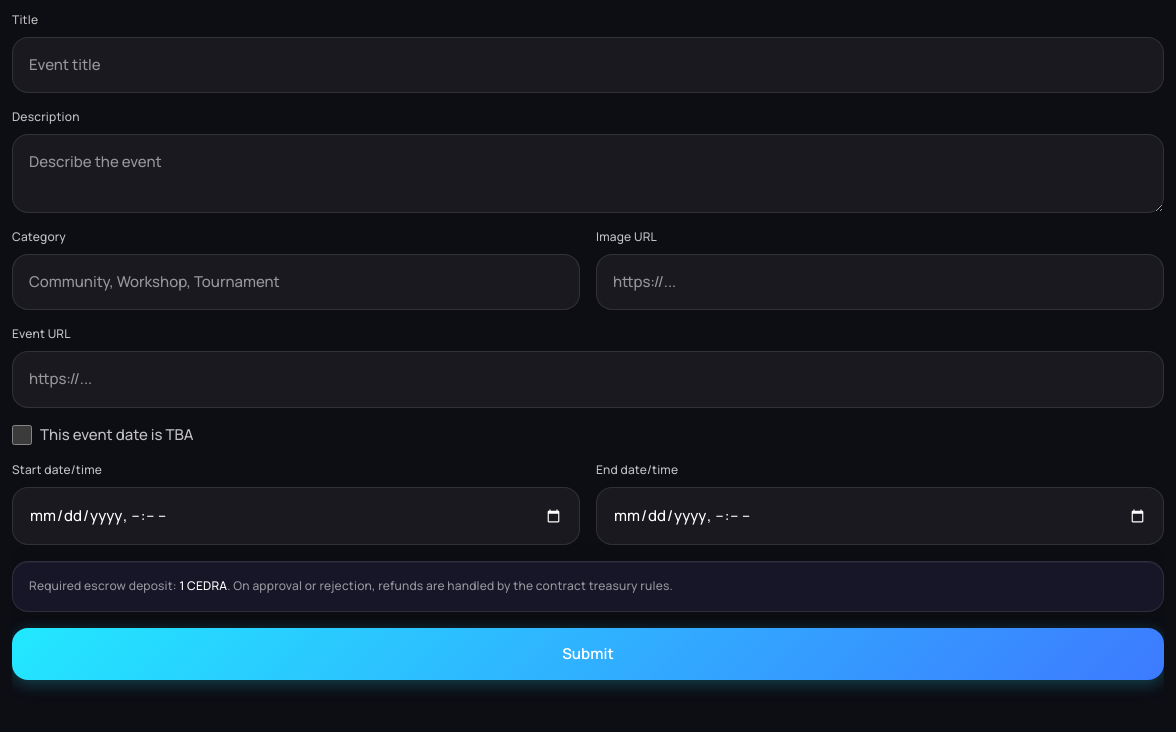
Test: EventForm › validates end date after start date
The width and height of the screenshot is (1176, 732).
Type "Test Event" into the field labelled "Title" at (588, 65), box [12,37,1164,93]
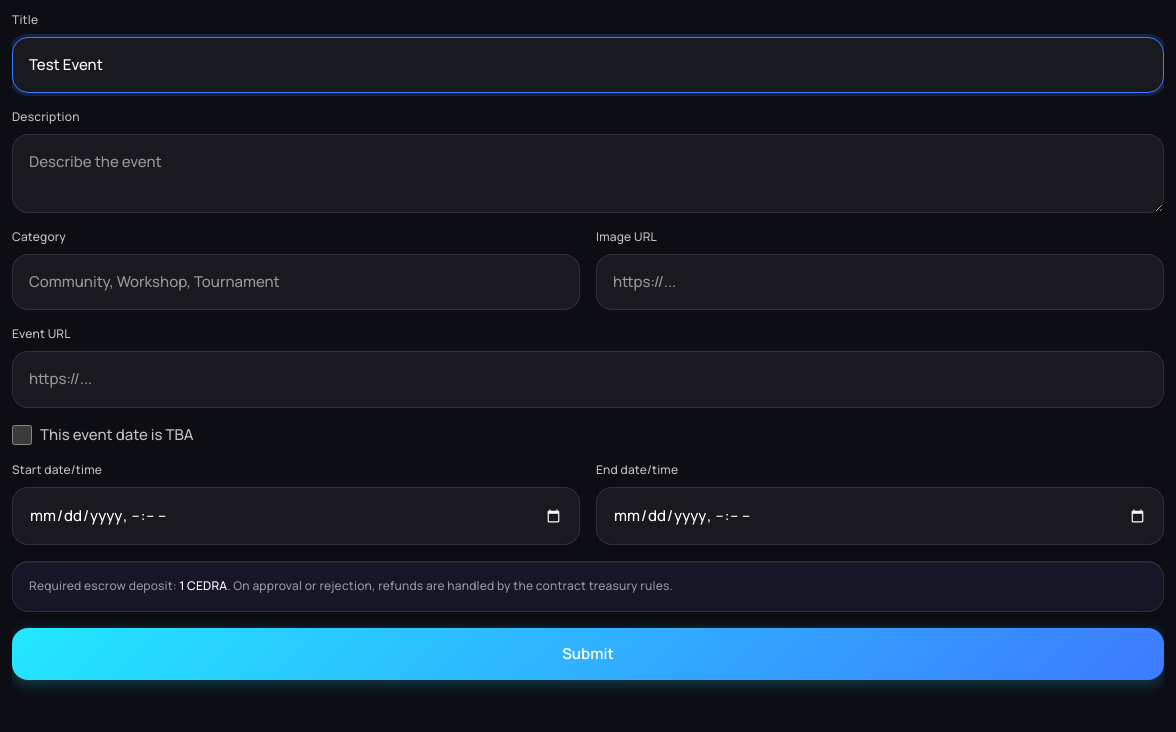
Type "This is a long enough description" into the text box labelled "Description" at (588, 174), box [12,134,1164,213]
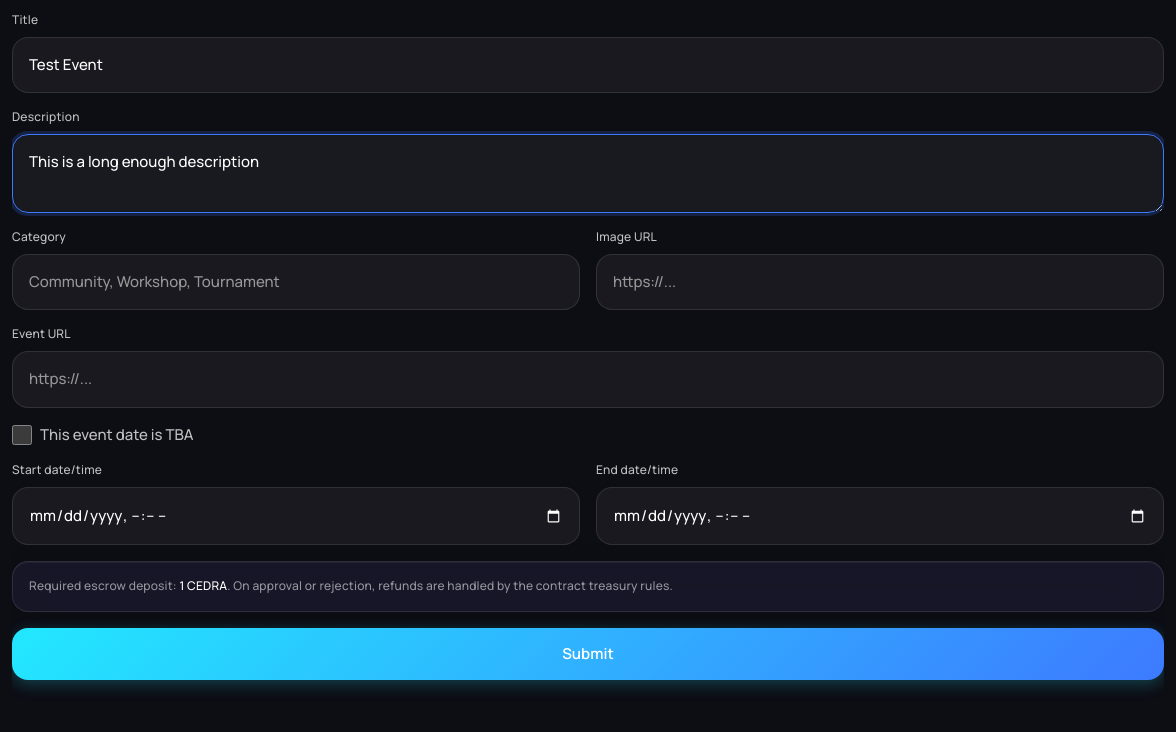
Type "Community" into the field labelled "Category" at (296, 282), box [12,254,580,310]
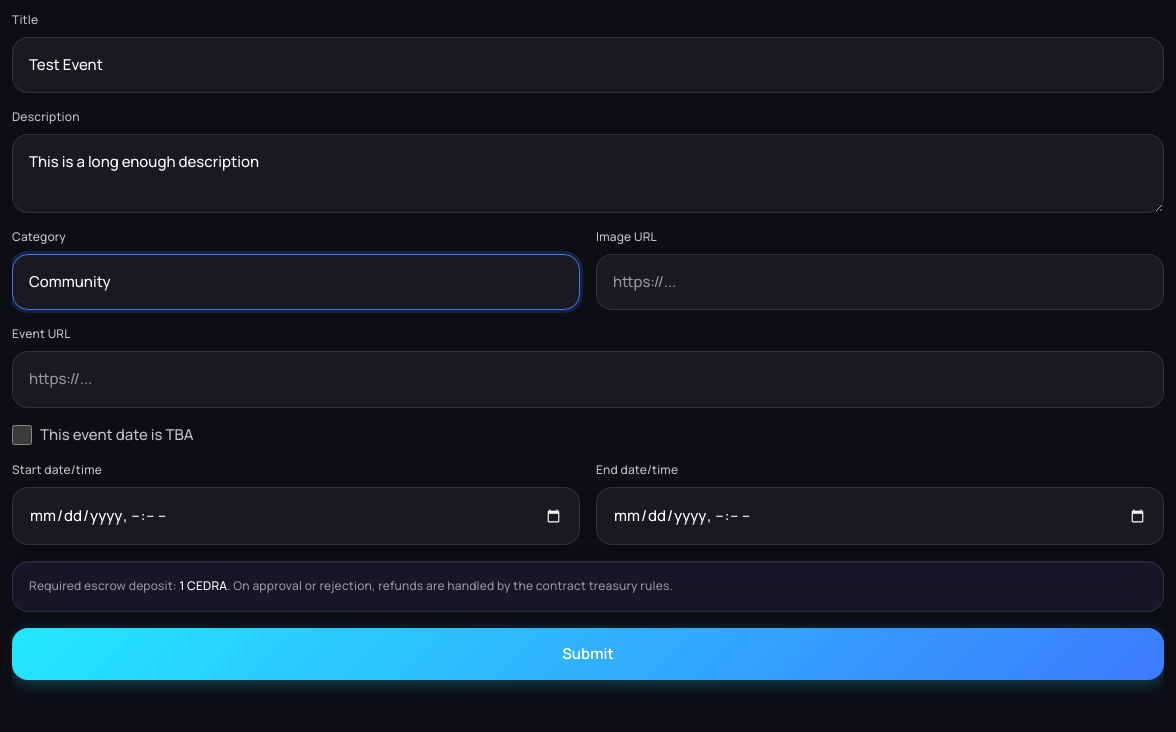
Type "2026-03-04T20:00" into the field labelled "Start date/time" at (296, 516), box [12,487,580,546]
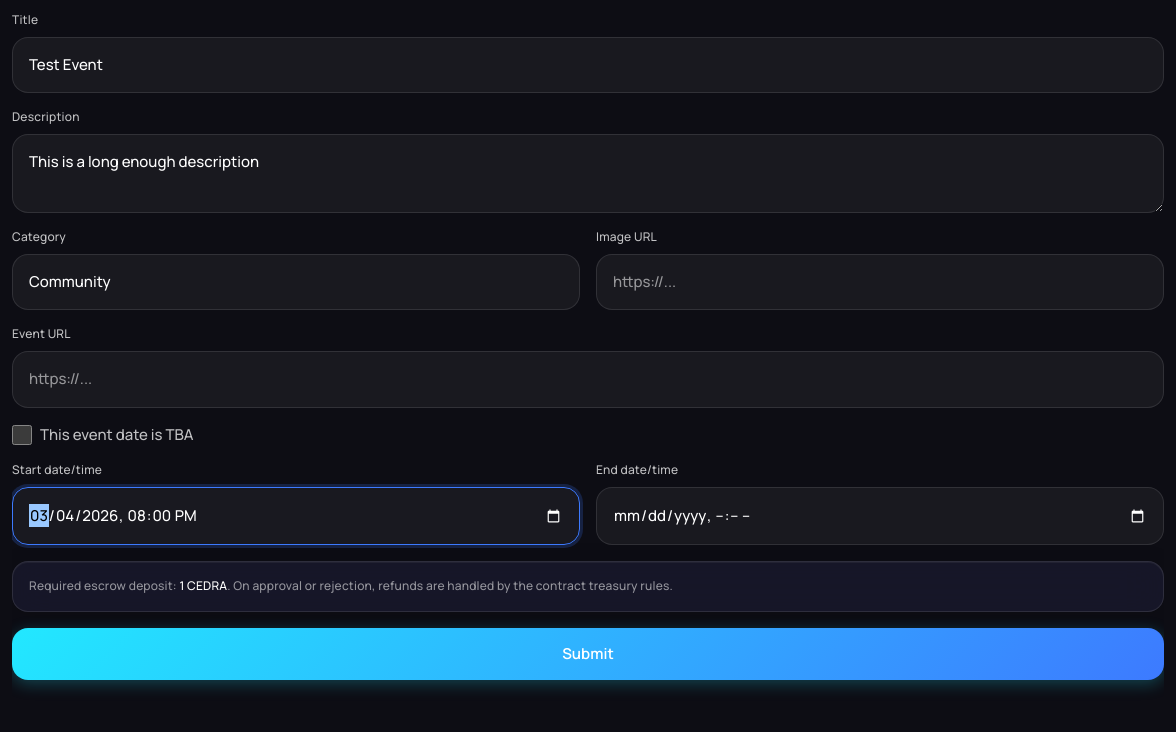
Type "2026-03-04T19:00" into the field labelled "End date/time" at (880, 516), box [596,487,1164,546]
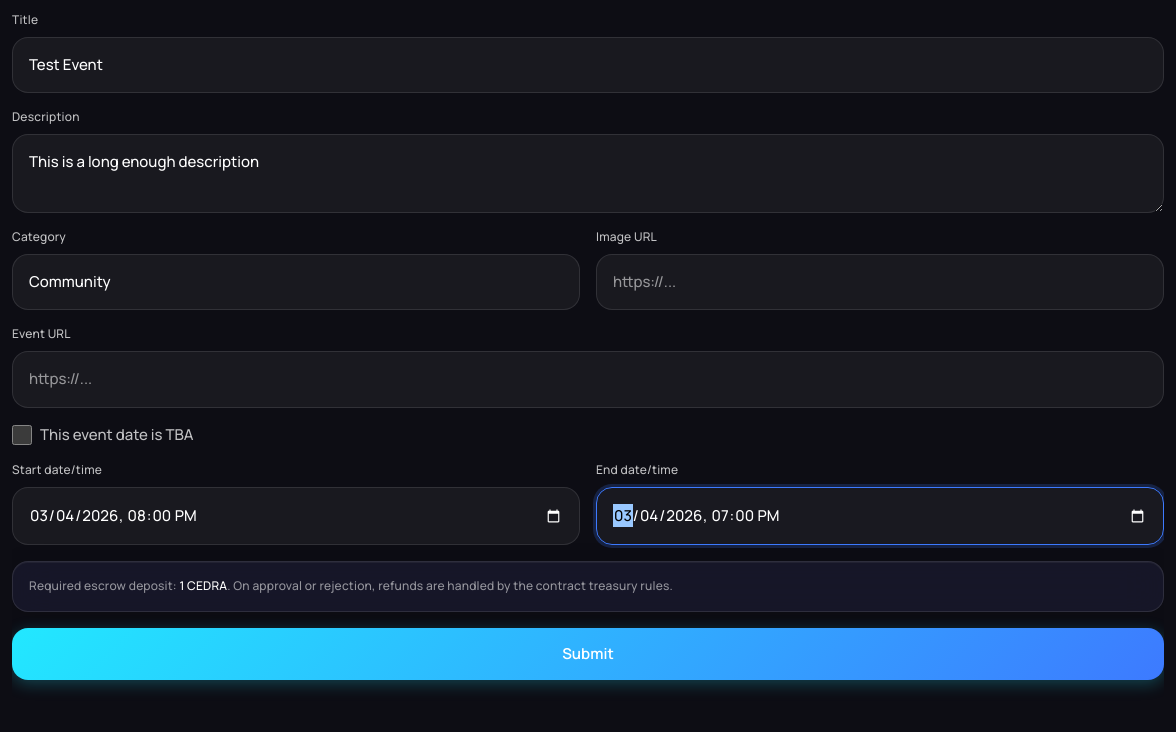
Click the button "Submit" at (588, 654), box [12,628,1164,680]
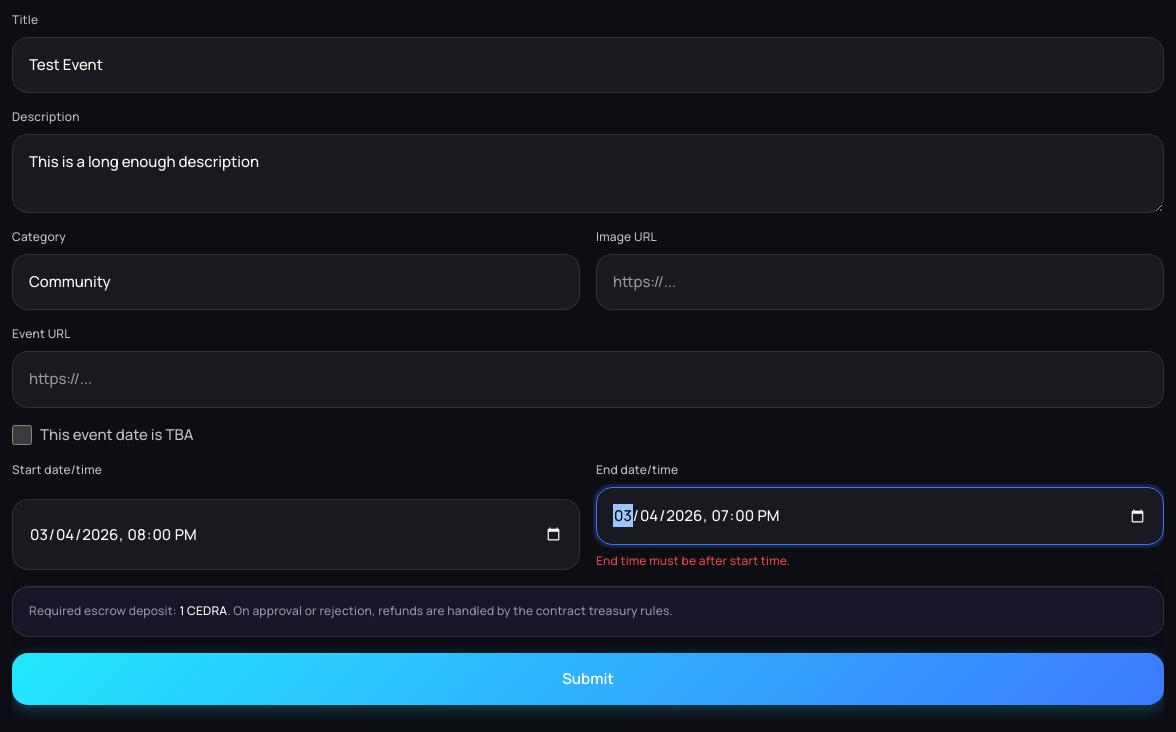
Check: the text "End time must be after start time." is shown, box [596,552,790,570]
